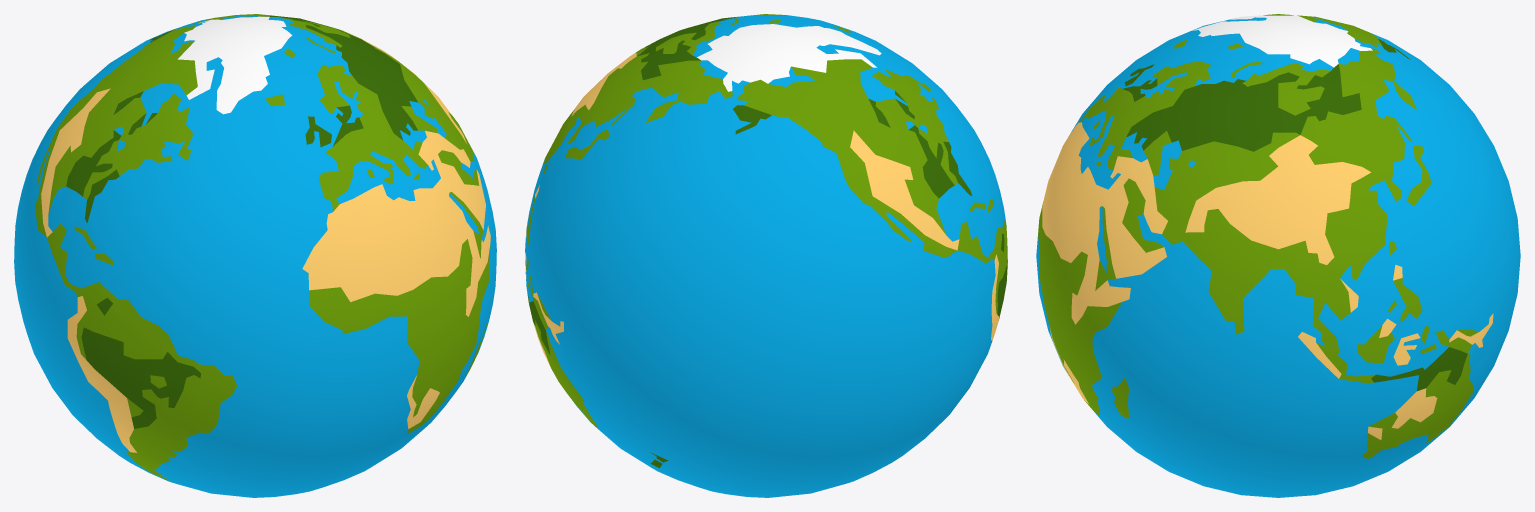
File: earth.glb
3 views of the same model, side by side, from view 1: azimuth 30°, elevation 25°; view 2: azimuth 150°, elevation 25°; view 3: azimuth 270°, elevation 25° (orthographic).
Parts seen in each view (by area): view 1: earth_ball; view 2: earth_ball; view 3: earth_ball.
Part boxes in pixels (x1=…): earth_ball: x1=14, y1=14, x2=496, y2=497; earth_ball: x1=525, y1=14, x2=1007, y2=497; earth_ball: x1=1036, y1=14, x2=1520, y2=497.
Bounding box in the file's own units: 23.51 × 23.64 × 23.52.
Materials: 1 (1 with a texture image).
